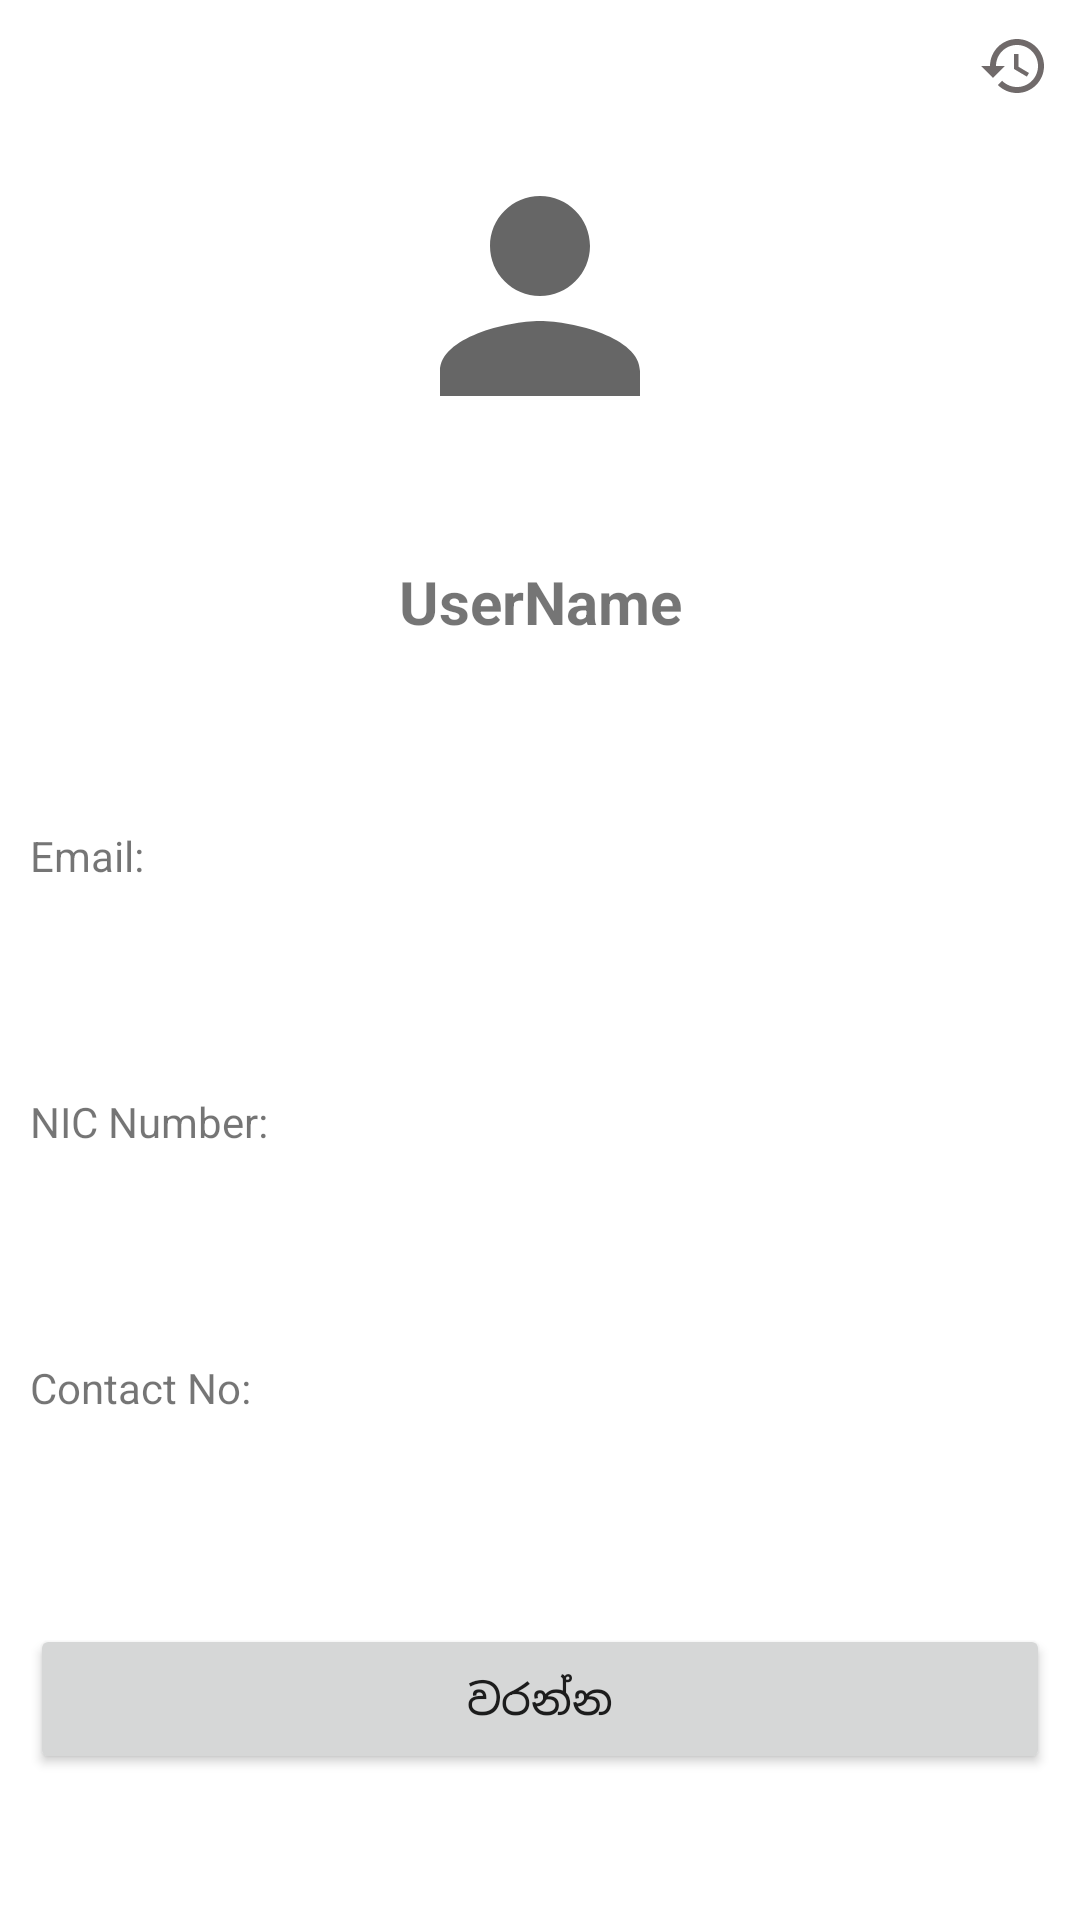

Named icons in this screenshot (1080 x 1920) and their centers, (x,y):
history: (1012,66)
profile: (540,296)
